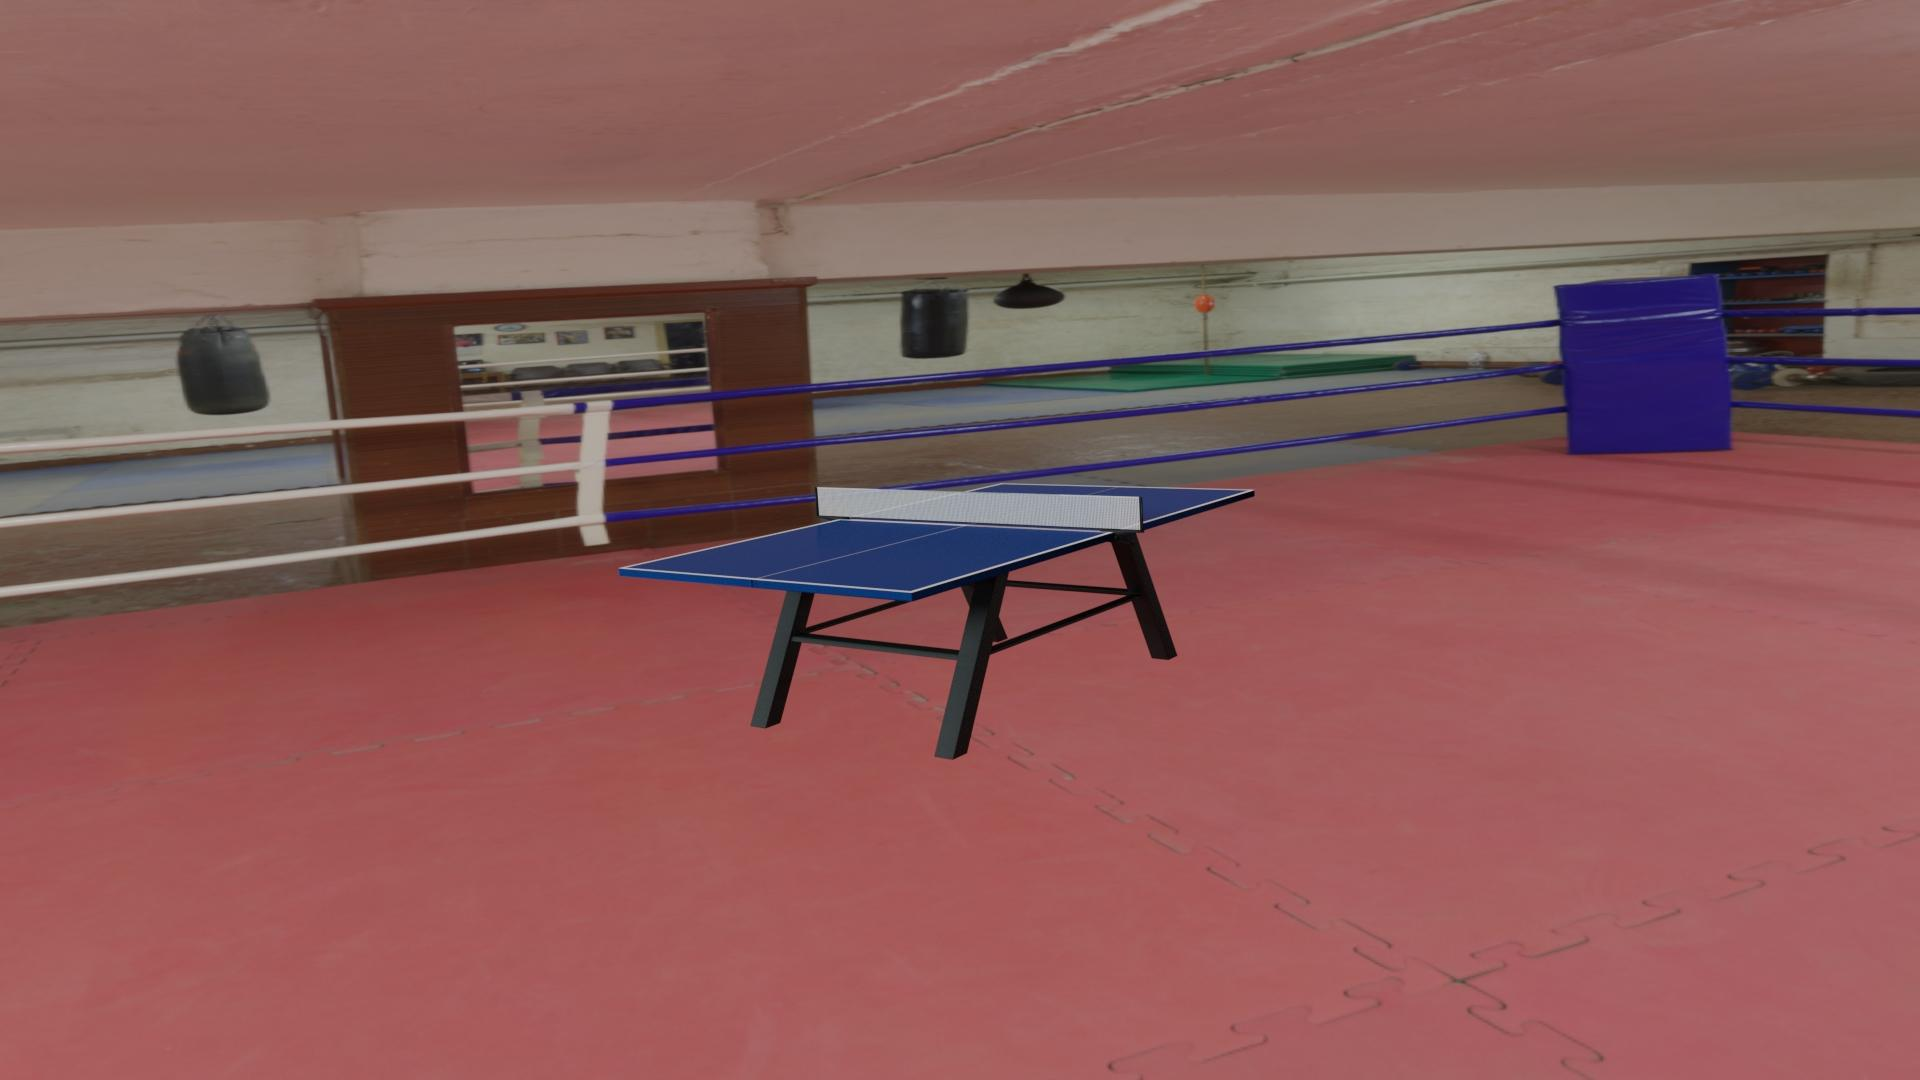table: (625, 484, 1249, 591)
